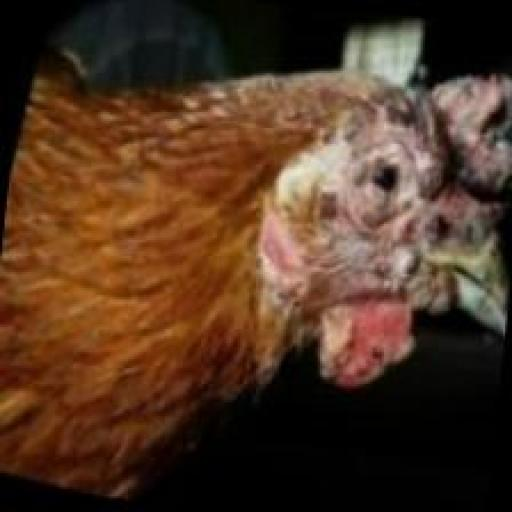disease: (271, 56, 512, 385)
